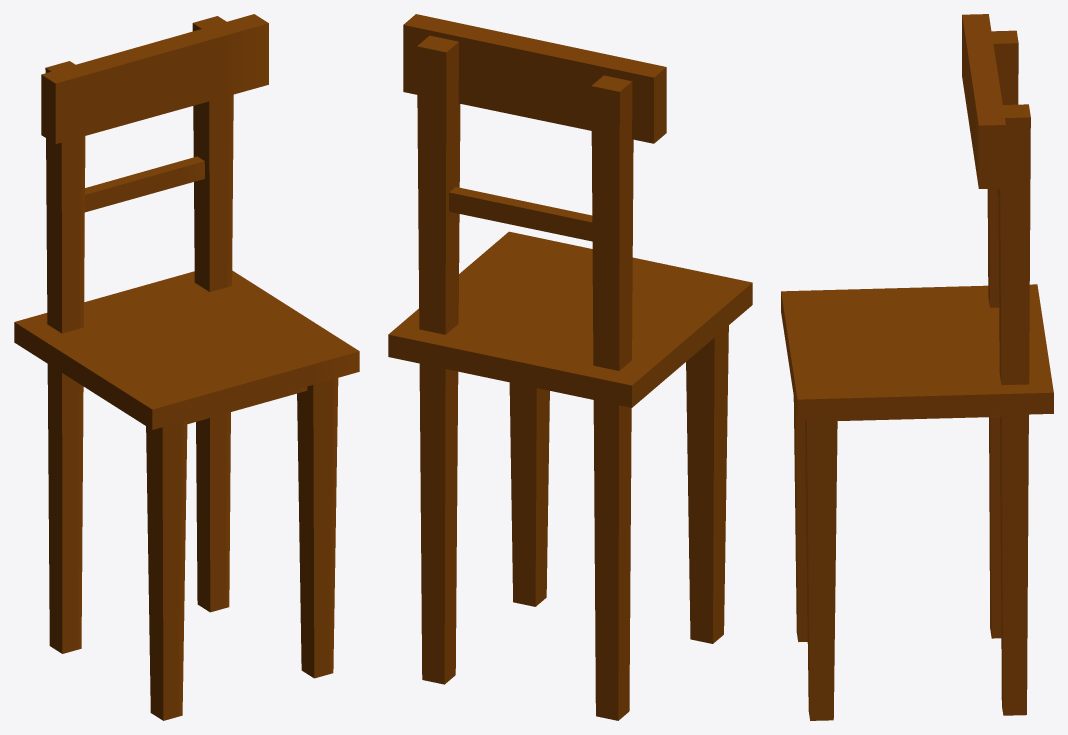
The model's file is Chair.fbx.
The picture shows the model from 3 angles, left to right: view 1: azimuth 30°, elevation 25°; view 2: azimuth 150°, elevation 25°; view 3: azimuth 270°, elevation 25°; orthographic projection. The views are drawn at different scales.
Visible parts, largest first — view 1: Chair; view 2: Chair; view 3: Chair.
Part boxes in pixels (<box>): Chair: <box>14,14,359,720</box>; Chair: <box>388,14,752,720</box>; Chair: <box>781,14,1053,720</box>.
Size of the model in its own units: 66.31 by 162 by 66.31.
